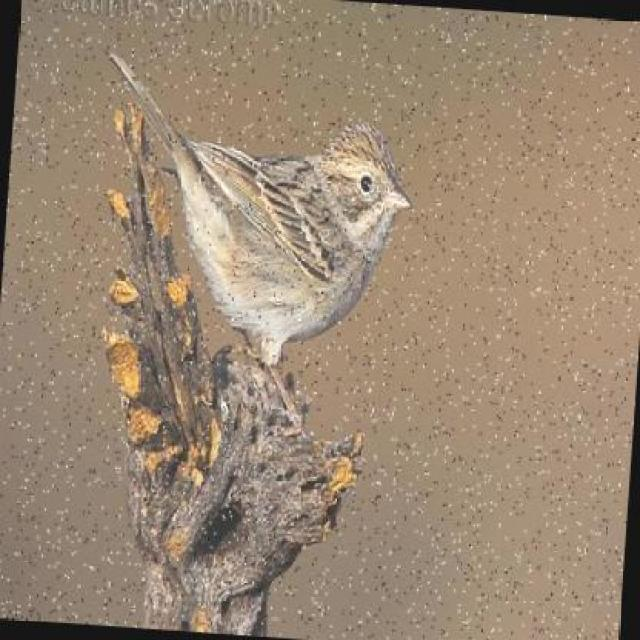Bird: (99, 44, 402, 348)
